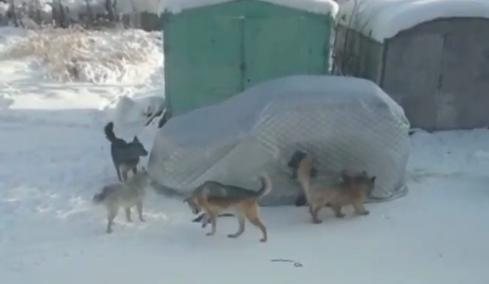normal_dogs: (183, 171, 272, 243), (298, 154, 379, 225), (92, 167, 151, 233), (101, 121, 148, 177)
